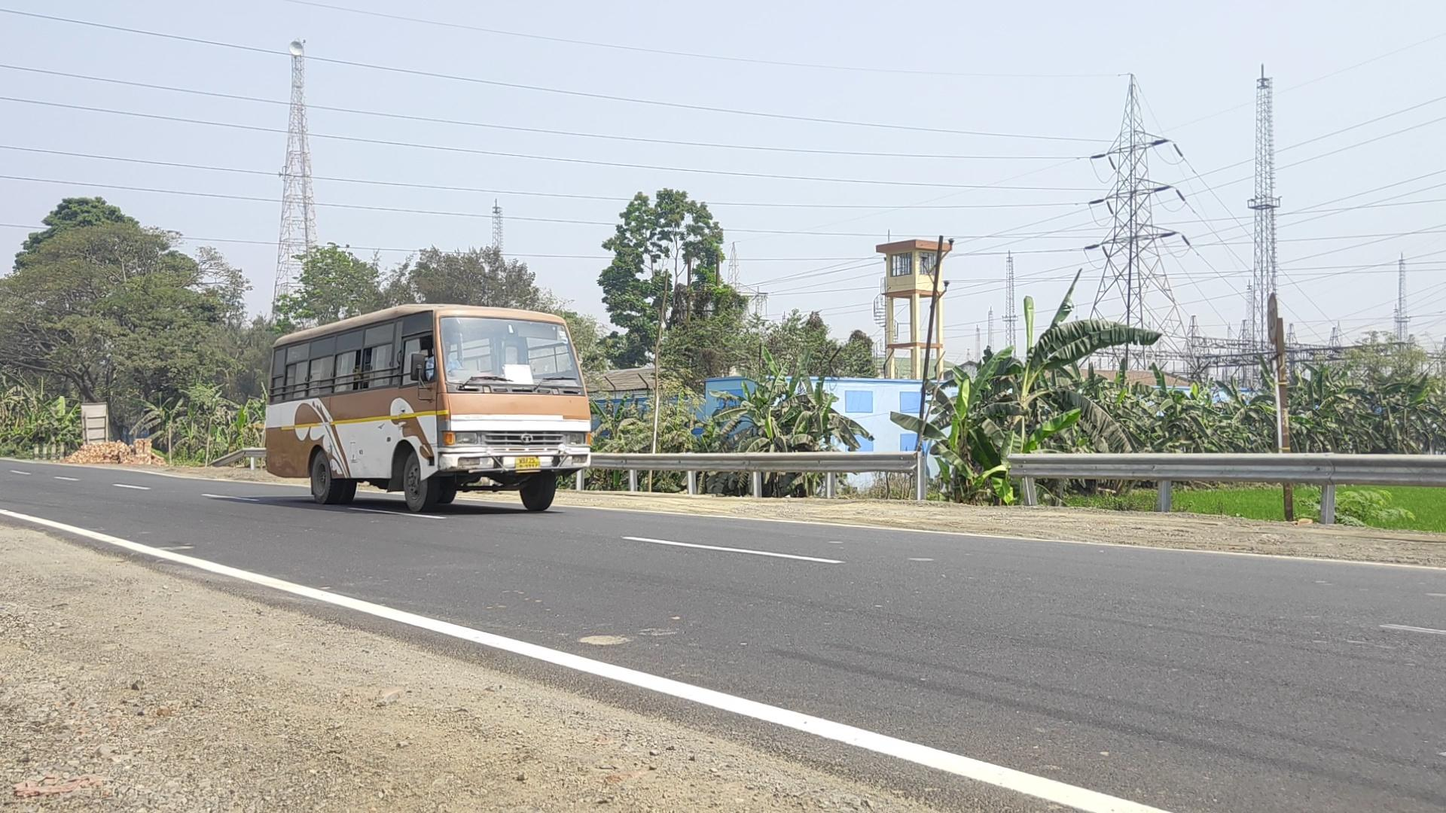Bus: (264, 303, 592, 513)
